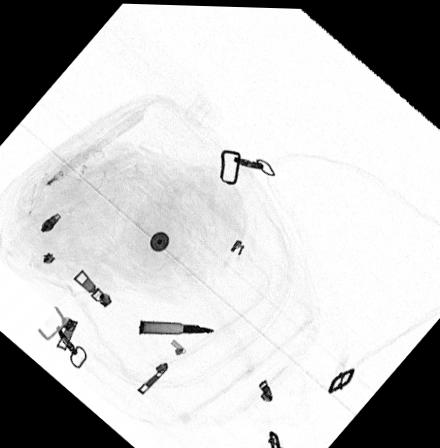Bullet: (138, 319, 214, 333)
